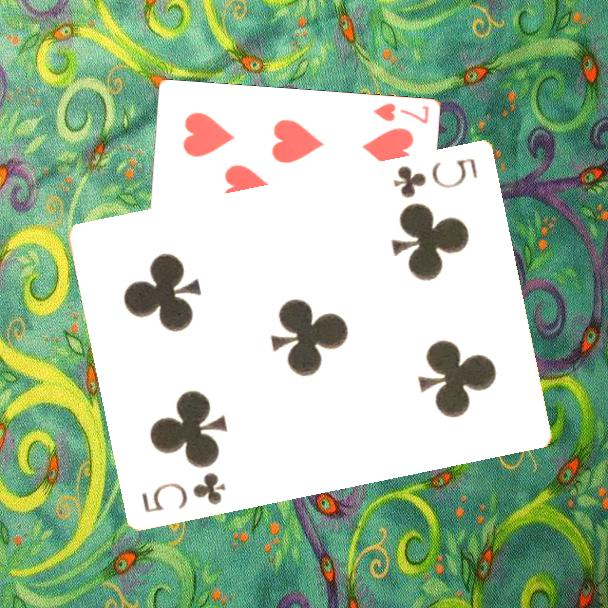c05: (390, 153, 481, 200), (138, 468, 229, 515)
h07: (369, 100, 432, 127)
